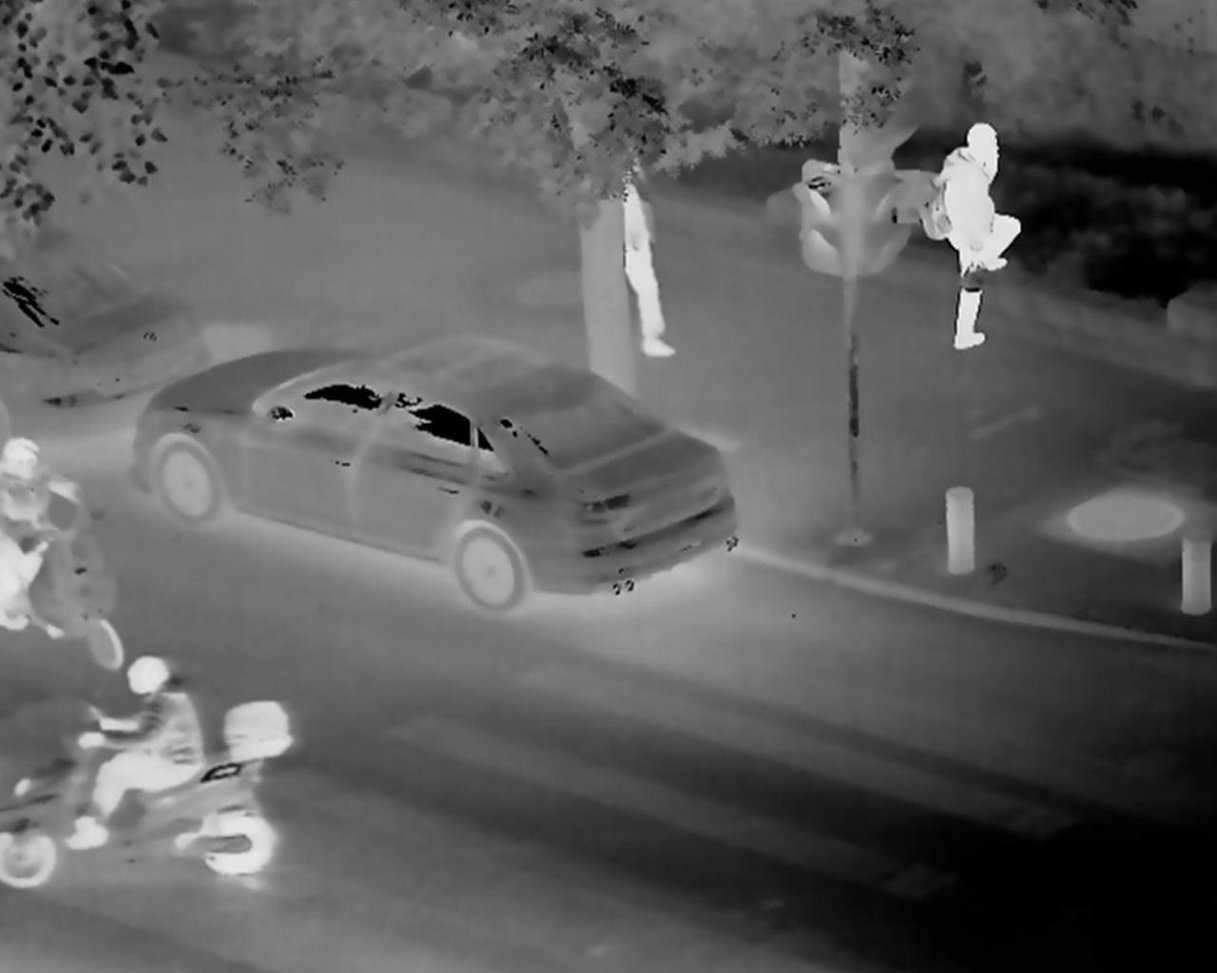person: (87, 646, 219, 851), (925, 119, 1024, 354), (570, 134, 667, 363), (2, 433, 63, 608)
